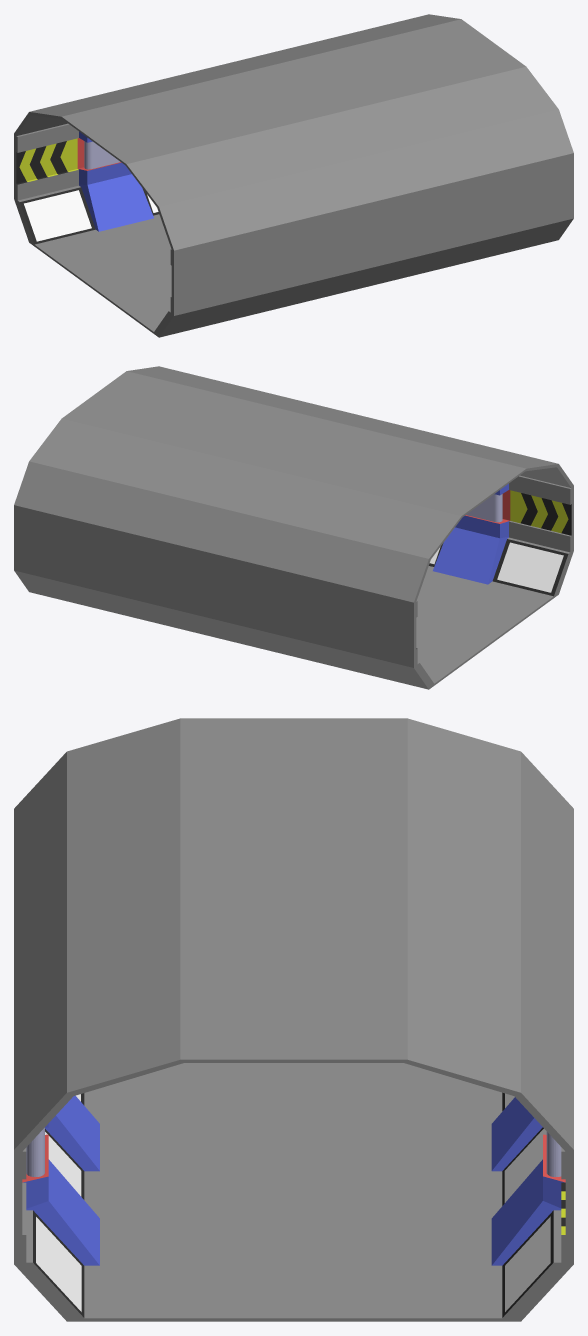
3 views of the same model, one above another, from view 1: azimuth 30°, elevation 25°; view 2: azimuth 150°, elevation 25°; view 3: azimuth 270°, elevation 25° (orthographic). The views are drawn at different scales.
Parts seen in each view (by area): view 1: Cube, Cilindro; view 2: Cube, Cilindro; view 3: Cube, Cilindro.
Part boxes in pixels (left/top/right/bottom): Cube: left=14, top=14, right=573, bottom=337; Cilindro: left=84, top=141, right=120, bottom=169; Cube: left=14, top=366, right=573, bottom=689; Cilindro: left=466, top=494, right=502, bottom=522; Cube: left=14, top=718, right=573, bottom=1321; Cilindro: left=26, top=1127, right=561, bottom=1176.
Size of the model in its own units: 16 by 5.72 by 11.09.
